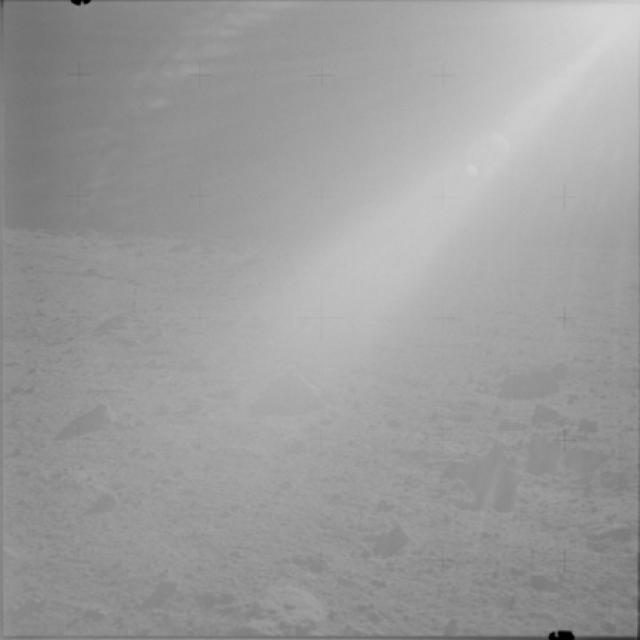rock: (441, 436, 521, 513), (531, 398, 609, 476), (246, 373, 348, 420), (486, 353, 572, 400), (76, 401, 129, 432), (376, 516, 416, 551), (91, 310, 138, 334)
